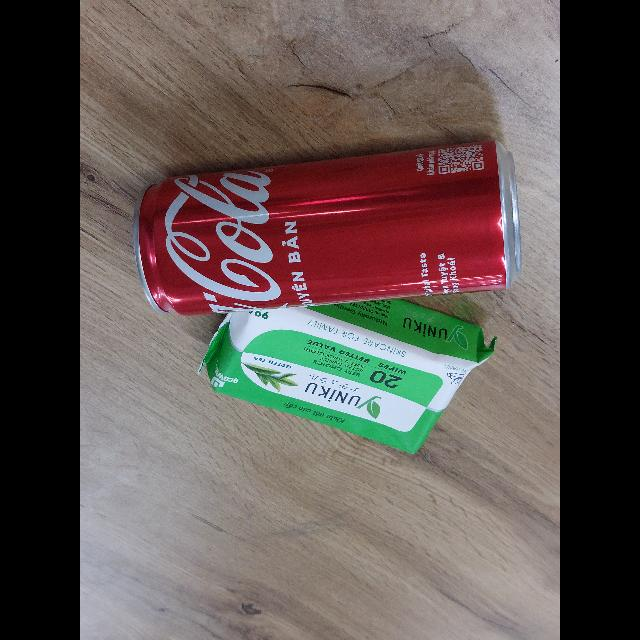coca_cola: (134, 141, 521, 315)
khan_giay: (199, 300, 496, 453)
